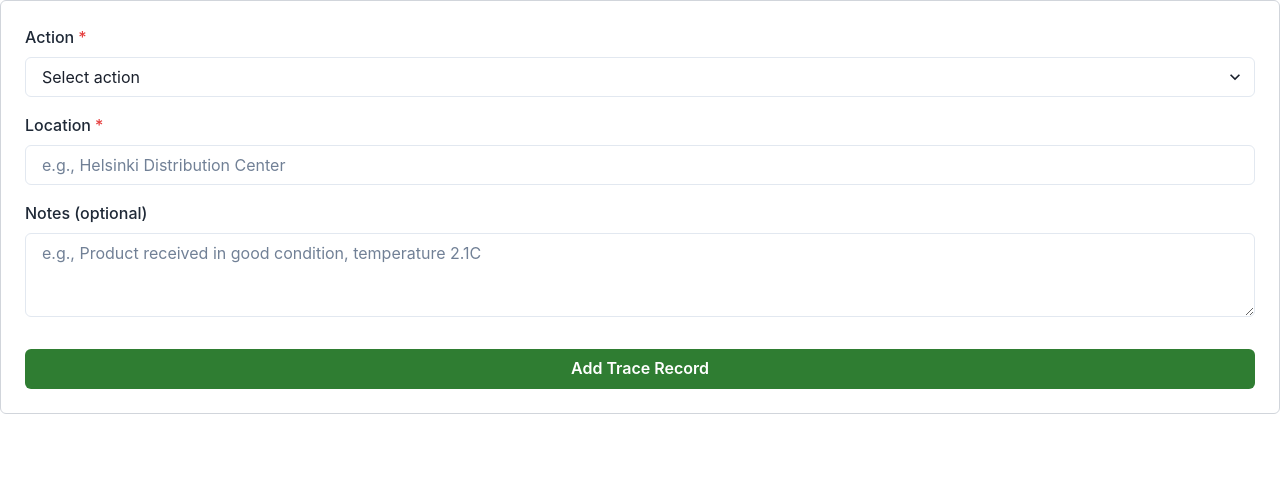
TraceRecordForm › Submission › should show error toast on API error
Note: Fill form
Select "Received" in the dropdown: (640,77) 25,57 -> 1255,97
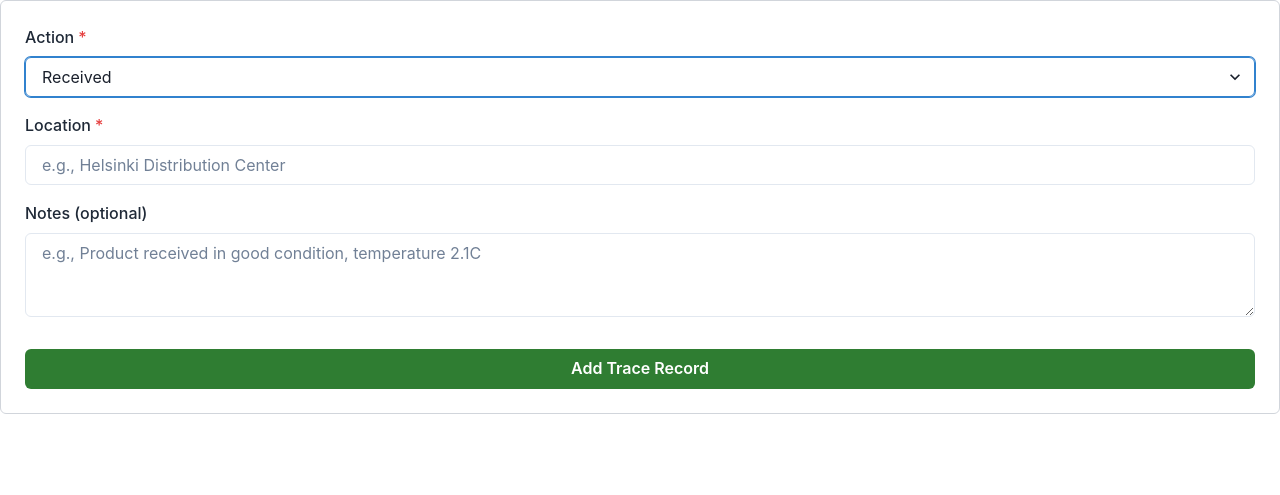
In the field with placeholder "e.g., Helsinki Distribution Center": (640,165) 25,145 -> 1255,185, type "Test"
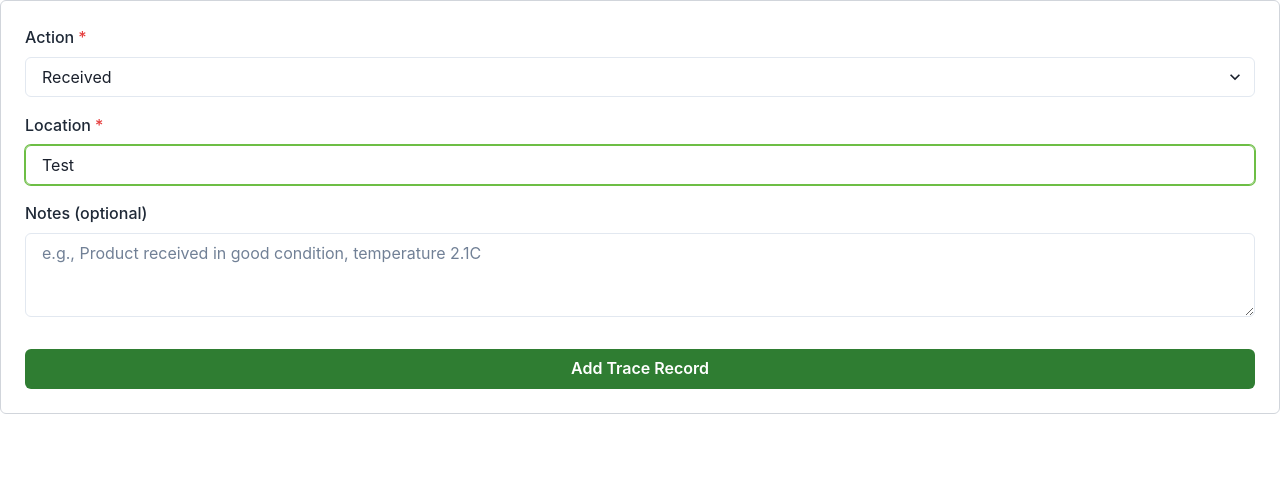
Click the button "Add Trace Record": (640,369) 25,349 -> 1255,389
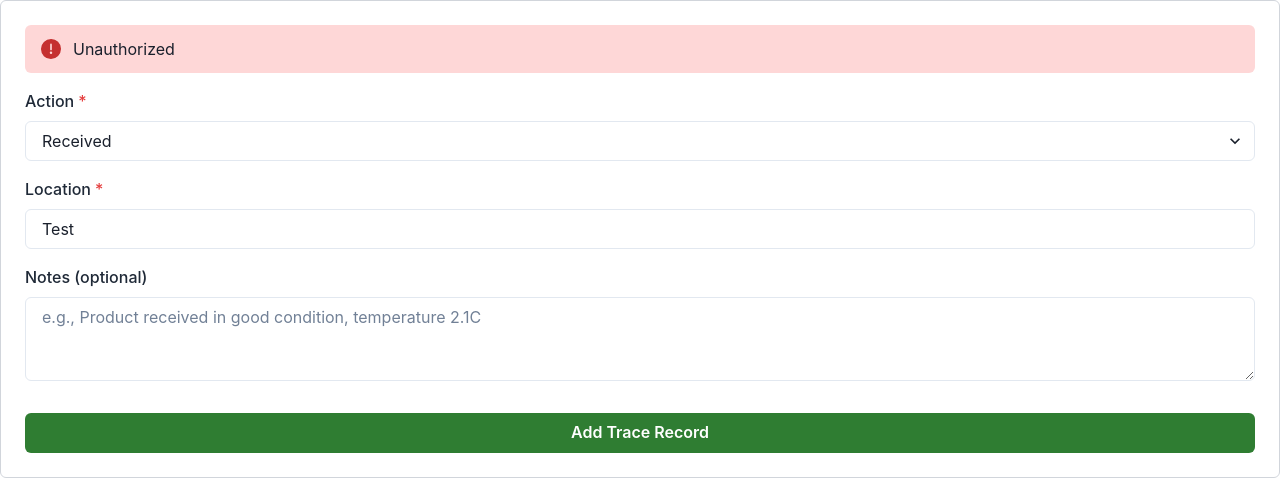
Expected: the text "Unauthorized" is shown, 25,25 -> 1255,73
